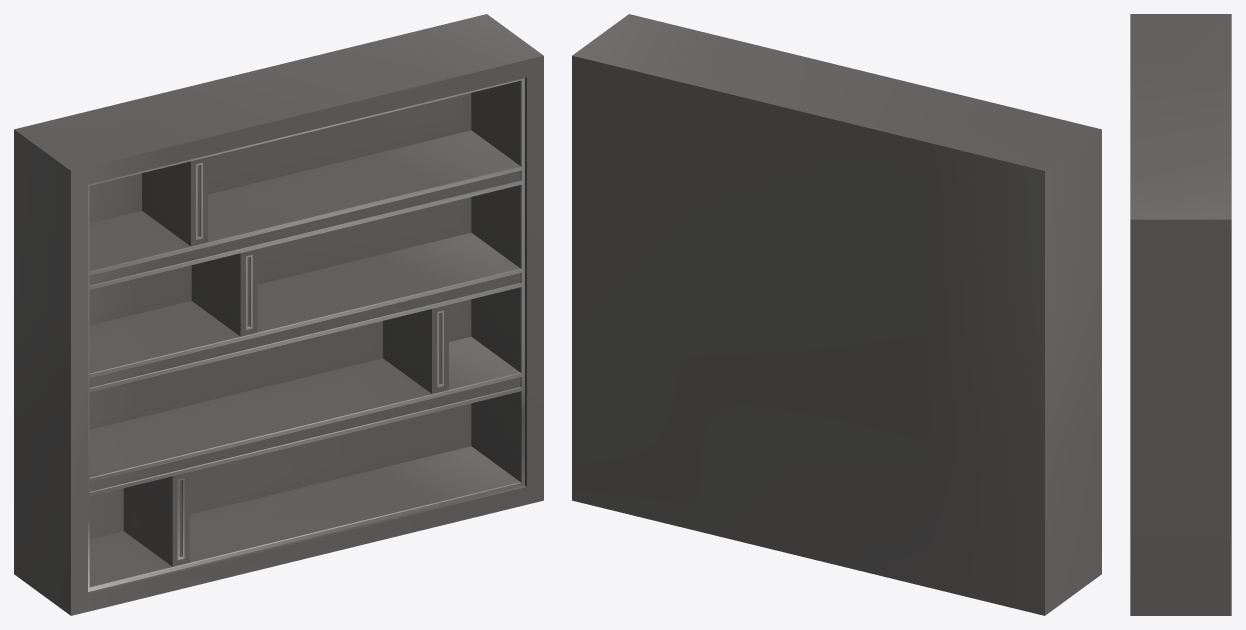
Rendered from raw_model.obj.
3 views of the same model, side by side, from view 1: azimuth 30°, elevation 25°; view 2: azimuth 150°, elevation 25°; view 3: azimuth 270°, elevation 25° (orthographic). The views are drawn at different scales.
Visible parts, largest first — view 1: solid_001, solid_002; view 2: solid_001; view 3: solid_001.
Boxes of the visible parts, x1,y1,x2,y2 form: solid_001: (14,14,543,615); solid_002: (88,78,524,591); solid_001: (572,14,1101,615); solid_001: (1130,14,1231,615).
Size of the model in its own units: 2.78 by 2.5 by 0.58.
Materials: 1 (1 with a texture image).
